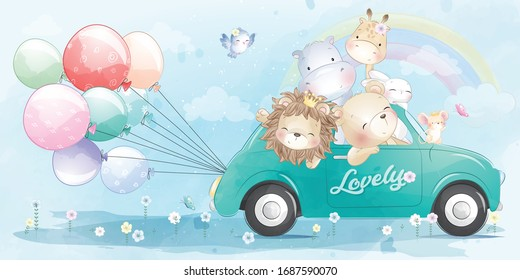animal: (262, 95, 334, 163), (337, 92, 401, 160), (289, 40, 357, 91), (352, 14, 389, 69), (411, 105, 449, 152), (362, 73, 418, 103)
bird: (220, 25, 252, 59)
car: (211, 148, 506, 226)
cloud: (186, 84, 257, 123), (449, 88, 512, 123)
flower: (120, 220, 150, 244), (31, 198, 49, 234), (166, 208, 184, 241), (407, 213, 425, 238), (425, 211, 441, 239), (325, 212, 338, 243), (141, 194, 153, 225), (62, 210, 77, 234), (196, 211, 210, 233), (380, 223, 396, 240), (240, 229, 256, 244), (489, 210, 499, 232), (309, 222, 322, 238), (95, 225, 105, 238)
